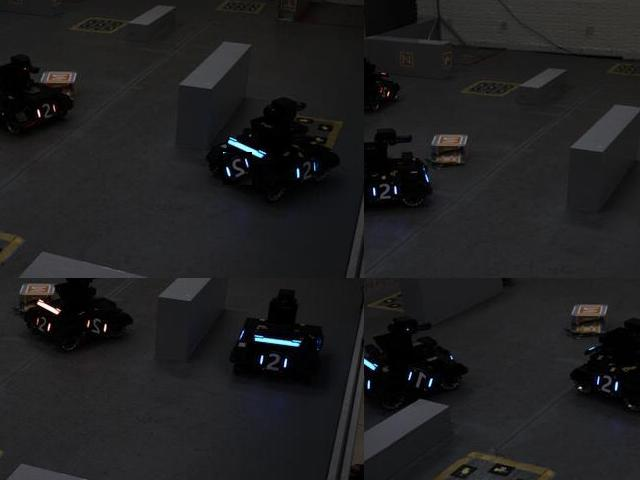armor: (406, 363, 440, 396), (256, 348, 293, 376), (290, 155, 322, 187), (223, 153, 253, 187), (591, 369, 622, 400), (368, 180, 402, 203), (83, 313, 113, 338), (29, 311, 53, 337), (37, 99, 59, 124), (376, 81, 394, 102), (364, 366, 373, 396), (0, 96, 6, 121)
